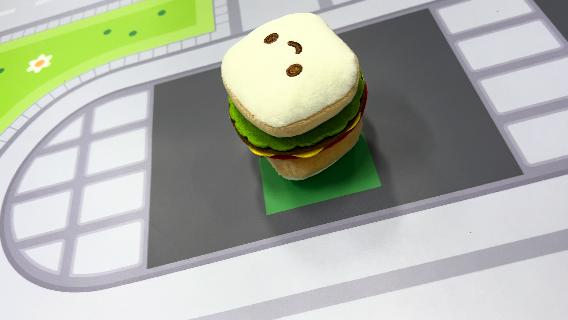sandwich: (219, 10, 371, 182)
